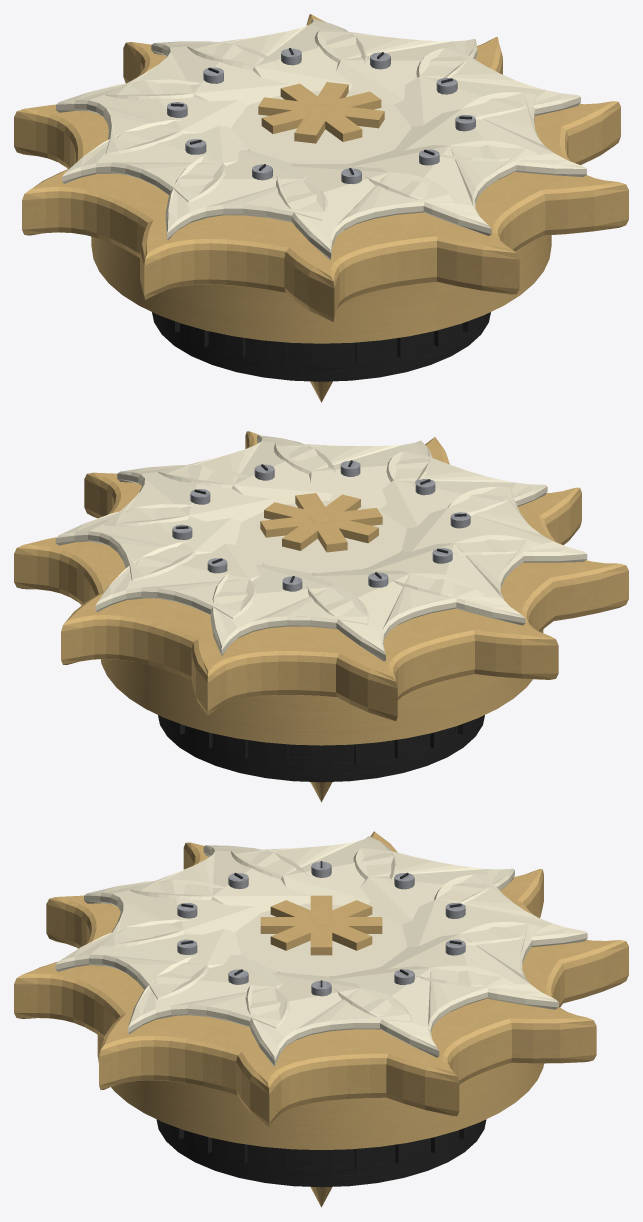
The model's file is shield.glb.
3 renders of one model, top to bottom at view 1: azimuth 30°, elevation 25°; view 2: azimuth 150°, elevation 25°; view 3: azimuth 270°, elevation 25°, orthographic. The views are drawn at different scales.
Parts seen in each view (by area): view 1: part-27, part-57, part-53, part-61, part-1, part-49, part-58, part-54, part-62, part-50, part-66, part-46 (+18 smaller); view 2: part-27, part-41, part-45, part-37, part-49, part-1, part-46, part-42, part-38, part-50, part-34, part-54 (+17 smaller); view 3: part-27, part-29, part-33, part-65, part-1, part-30, part-34, part-66, part-61, part-62, part-37, part-38 (+17 smaller).
Part boxes in pixels (x1,y1,x2,y2): part-27: (91, 235, 551, 343); part-57: (273, 213, 472, 322); part-53: (140, 202, 321, 299); part-61: (384, 172, 565, 294); part-1: (152, 312, 490, 381); part-49: (22, 168, 195, 257); part-58: (276, 163, 455, 259); part-54: (165, 150, 328, 239); part-62: (350, 140, 537, 235); part-50: (62, 120, 248, 202); part-66: (395, 92, 586, 176); part-46: (56, 79, 247, 154); part-27: (101, 630, 543, 745); part-41: (191, 614, 373, 715); part-45: (309, 609, 505, 721); part-37: (61, 592, 218, 680); part-49: (419, 562, 567, 679); part-1: (158, 715, 484, 782); part-46: (307, 568, 484, 661); part-42: (210, 564, 368, 655); part-38: (95, 541, 263, 618); part-50: (366, 535, 539, 625); part-34: (55, 504, 241, 580); part-54: (401, 486, 587, 562); part-27: (97, 1035, 543, 1149); part-29: (236, 1024, 422, 1127); part-33: (347, 998, 537, 1116); part-65: (99, 1007, 268, 1094); part-1: (156, 1119, 486, 1187); part-30: (245, 972, 411, 1066); part-34: (331, 965, 512, 1057); part-66: (128, 954, 289, 1033); part-61: (14, 961, 169, 1038); part-62: (55, 919, 241, 999); part-37: (464, 946, 596, 1063); part-38: (381, 921, 558, 1009).
Bounding box in the file's own units: 1.26 × 0.649 × 1.26.
79 materials, 57 textured.
